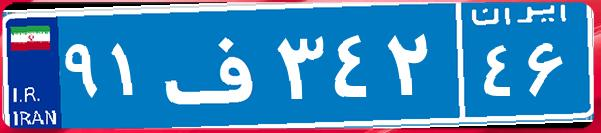1: (110, 28, 158, 105)
2: (385, 28, 445, 110)
3: (273, 28, 330, 110)
4: (330, 28, 385, 110), (475, 38, 525, 113)
6: (525, 38, 570, 115)
9: (57, 26, 110, 107)
ف: (158, 15, 273, 115)
